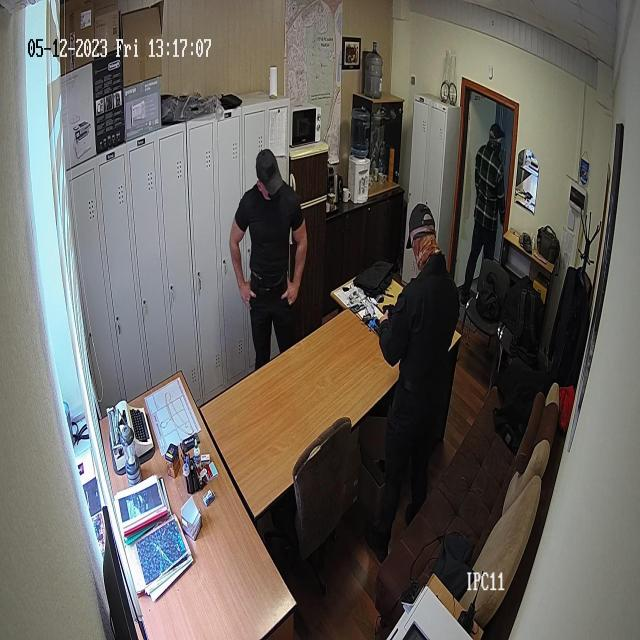gun: (377, 200, 461, 452), (228, 146, 309, 338), (464, 121, 506, 258), (249, 268, 264, 309)
